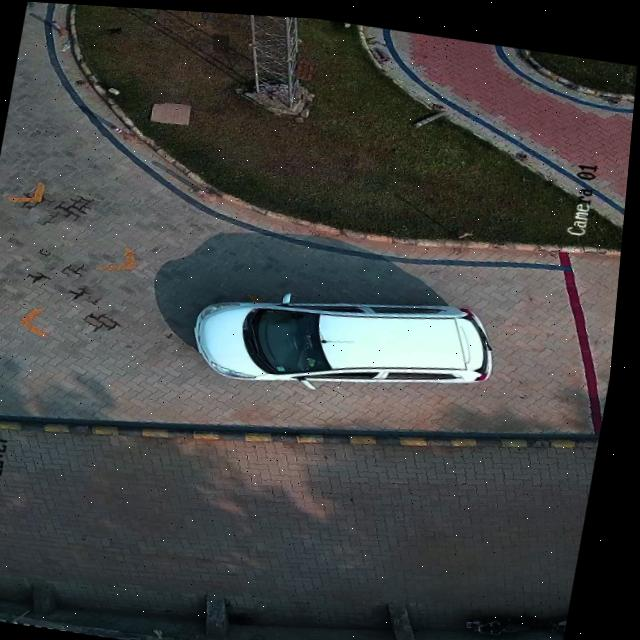car: (200, 290, 498, 383)
